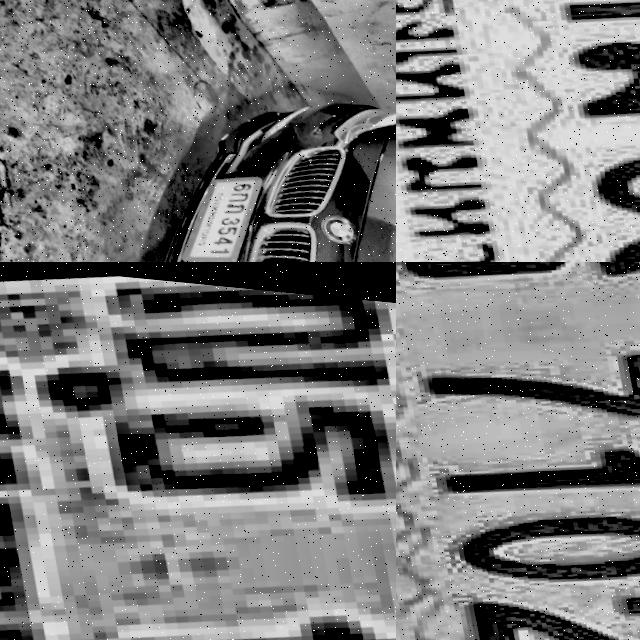license-plate: (0, 262, 396, 640), (396, 262, 640, 640), (396, 0, 640, 262), (160, 158, 277, 262)
